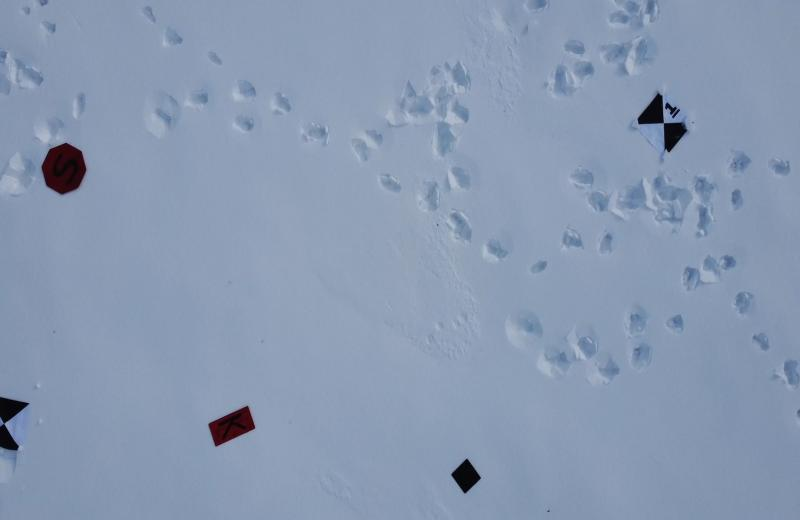Octagon: (41, 142, 89, 197)
Rectangle: (208, 404, 256, 446)
Square: (450, 459, 480, 494)
